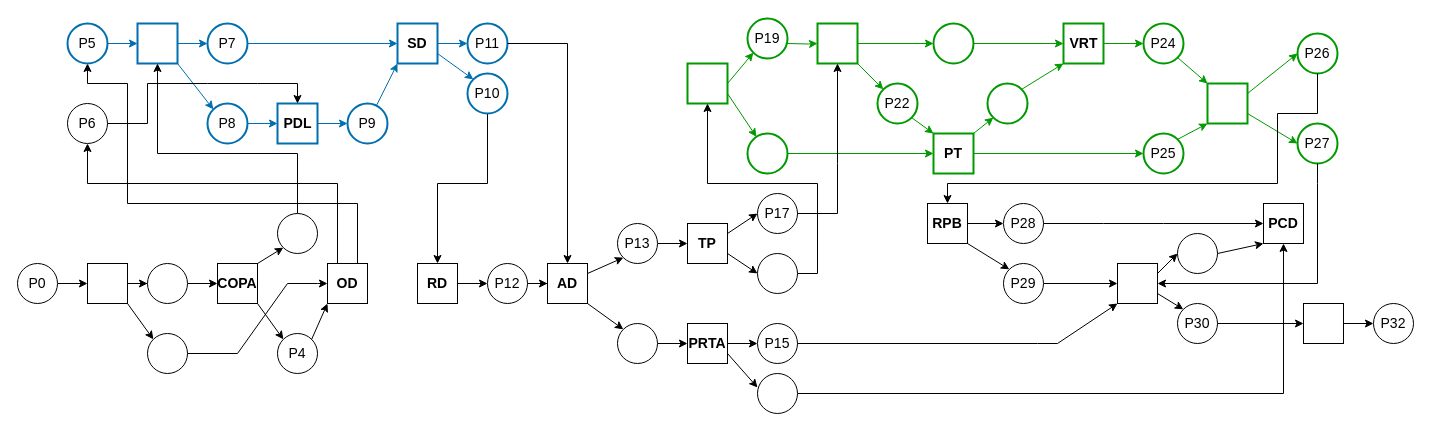
Some shapes in this 1431 by 431 pixel diagram are drawn without their labels. The box of each missing label's shape, as (x1, y1, x2, y2) in pixels:
DOR: (136, 22, 178, 64)
DP: (1302, 302, 1344, 344)
DPH: (1116, 262, 1158, 304)
P1: (146, 262, 188, 304)
P14: (616, 322, 658, 364)
P16: (756, 372, 798, 414)
P18: (756, 252, 798, 294)
P2: (146, 332, 188, 374)
P20: (746, 132, 788, 174)
P21: (932, 22, 974, 64)
P23: (986, 82, 1028, 124)
P3: (276, 212, 318, 254)
P31: (1176, 232, 1218, 274)
PAFH: (686, 62, 728, 104)
PH: (86, 262, 128, 304)
PIA: (816, 22, 858, 64)
TPB: (1206, 82, 1248, 124)
